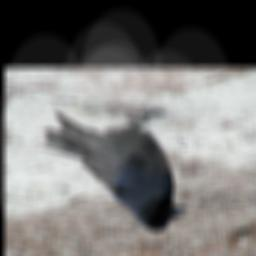Crow: (41, 108, 188, 233)
